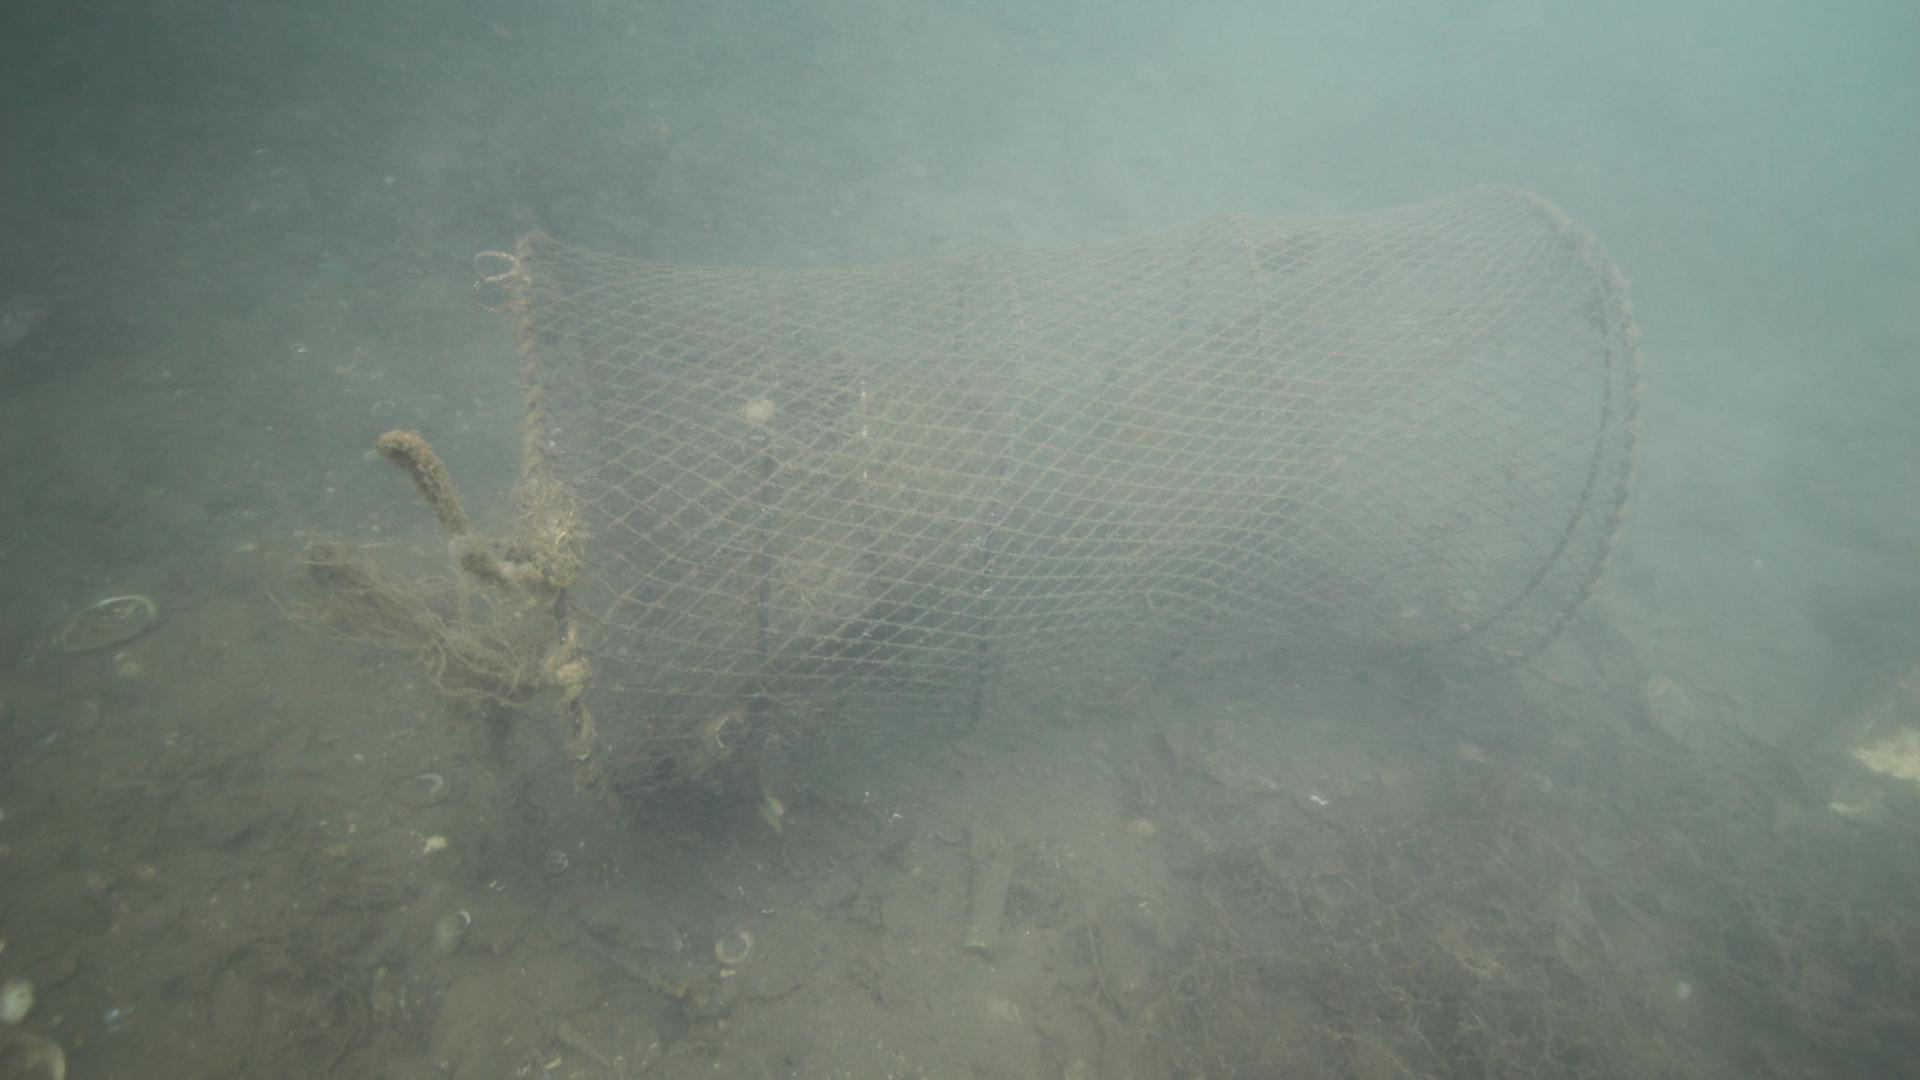bundle of ropes: (301, 405, 562, 727)
spring fish trap: (512, 185, 1644, 822)
